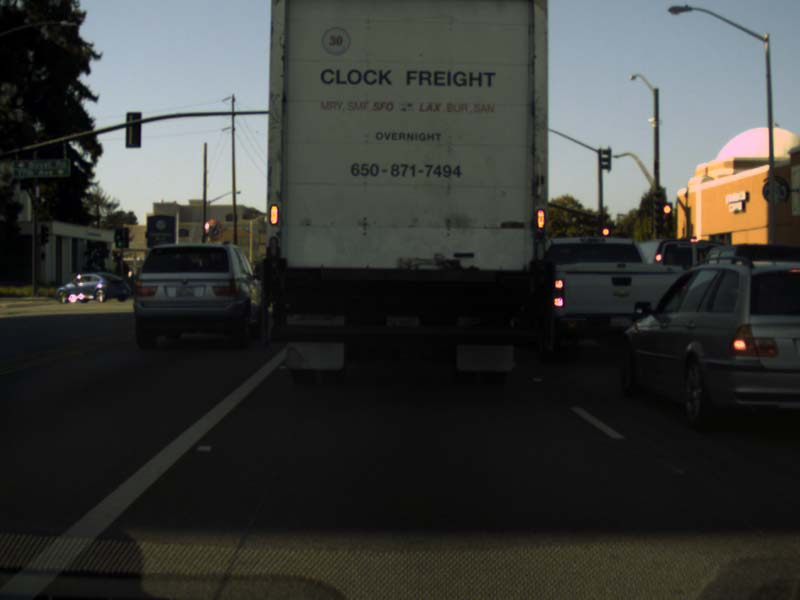Green: (116, 228, 124, 246)
Red: (660, 203, 674, 231), (600, 226, 609, 249)
